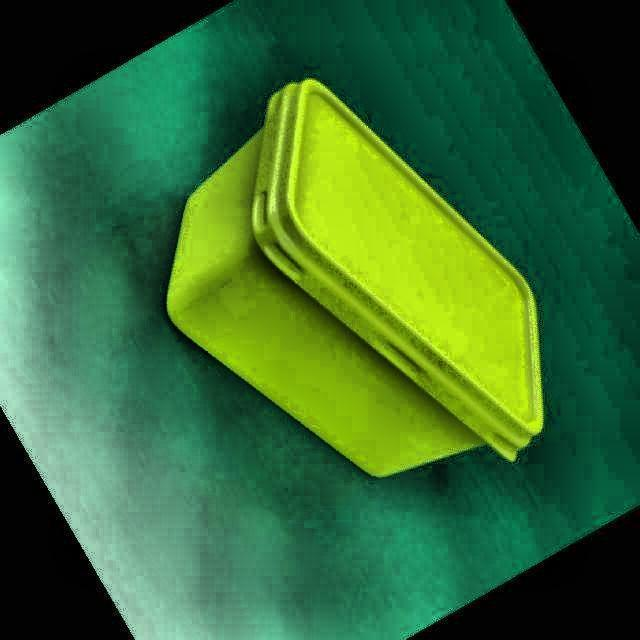plastic: (166, 80, 543, 474)
